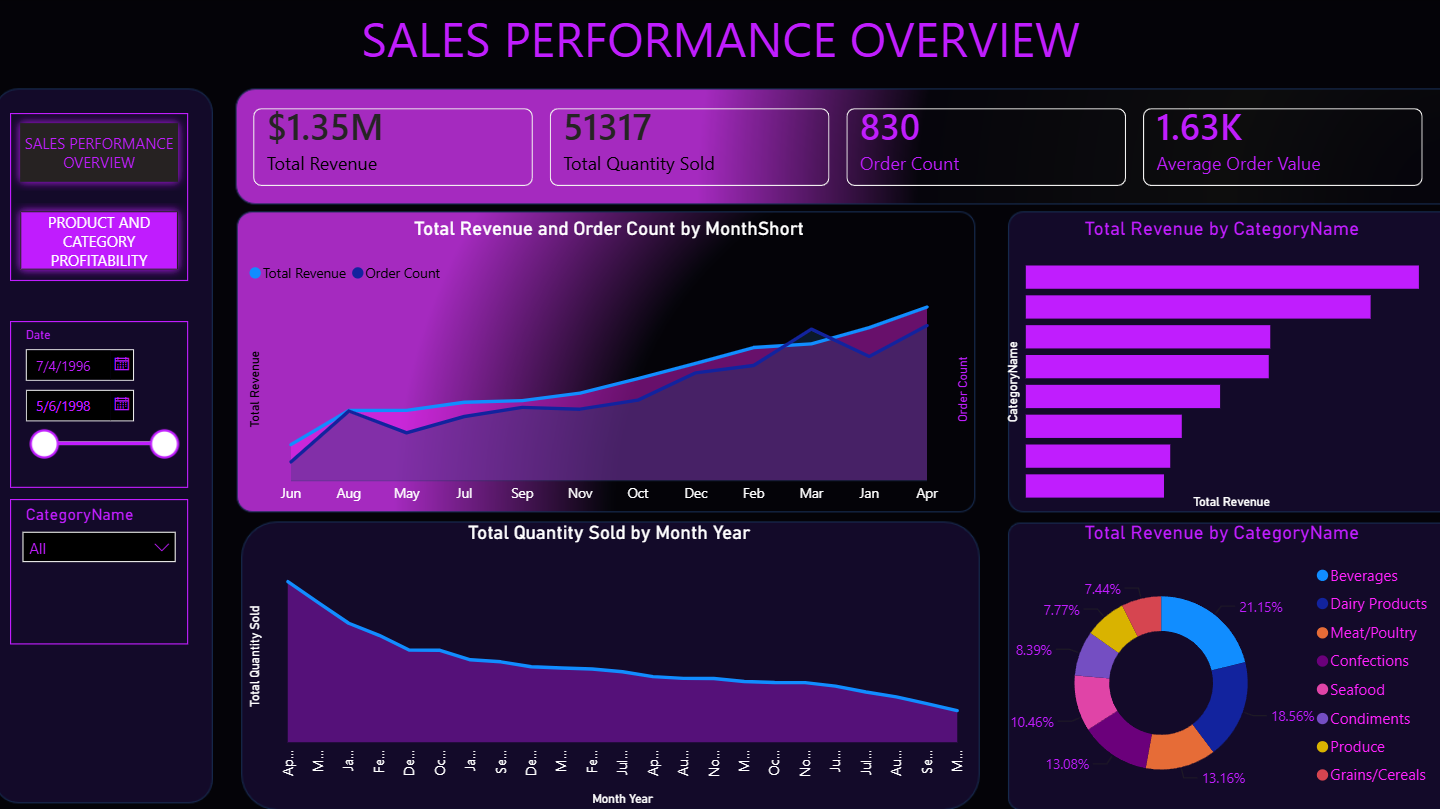

This screenshot's page, from the dashboard's own definition file:
{"tool":"powerbi","page":{"name":"SALES PERFORMANCE OVERVIEW","canvas":[1280,720],"ordinal":0},"visuals":[{"type":"cardVisual","fields":{"Data":["_Measures.Total Revenue","_Measures.Total Quantity Sold","_Measures.Order Count","_Measures.Average Order Value"]},"box":[208.4,79.8,1071.1,103.7],"z":0},{"type":"textbox","box":[0,0,1279.7,71.6],"z":1000},{"type":"clusteredBarChart","fields":{"Category":["Categories.CategoryName"],"Y":["_Measures.Total Revenue"]},"box":[888.5,193.3,391.9,263.3],"z":2000},{"type":"lineChart","fields":{"Category":["DimDate.MonthShort"],"Y":["_Measures.Total Revenue"],"Y2":["_Measures.Order Count"]},"box":[216.4,193.3,649.1,263.3],"z":3000},{"type":"donutChart","fields":{"Category":["Categories.CategoryName"],"Y":["_Measures.Total Revenue"]},"box":[888.5,462.9,391.9,257.1],"z":4000},{"type":"stackedAreaChart","fields":{"Category":["DimDate.Month Year"],"Y":["_Measures.Total Quantity Sold"]},"box":[216.4,462.9,649.1,257.1],"z":5000},{"type":"slicer","fields":{"Values":["DimDate.Date"]},"box":[10,285.5,158.2,148.2],"z":6000},{"type":"slicer","fields":{"Values":["Categories.CategoryName"]},"box":[10,443.6,158.2,129.1],"z":7000},{"type":"pageNavigator","box":[10,100.9,158.2,149.1],"z":8000}]}

Visuals, with their boxes in screenshot pixels (x1, y1, x2, y2), scaled from the page's 1280x720 canvas onto the 1440x809 screenshot:
cardVisual - _Measures.Total Revenue x _Measures.Total Quantity Sold: <region>234, 90, 1439, 206</region>
textbox: <region>0, 0, 1439, 80</region>
clusteredBarChart - Categories.CategoryName x _Measures.Total Revenue: <region>1000, 217, 1439, 513</region>
lineChart - DimDate.MonthShort x _Measures.Total Revenue: <region>243, 217, 974, 513</region>
donutChart - Categories.CategoryName x _Measures.Total Revenue: <region>1000, 520, 1439, 808</region>
stackedAreaChart - DimDate.Month Year x _Measures.Total Quantity Sold: <region>243, 520, 974, 808</region>
slicer - DimDate.Date: <region>11, 321, 189, 487</region>
slicer - Categories.CategoryName: <region>11, 498, 189, 643</region>
pageNavigator: <region>11, 113, 189, 281</region>
